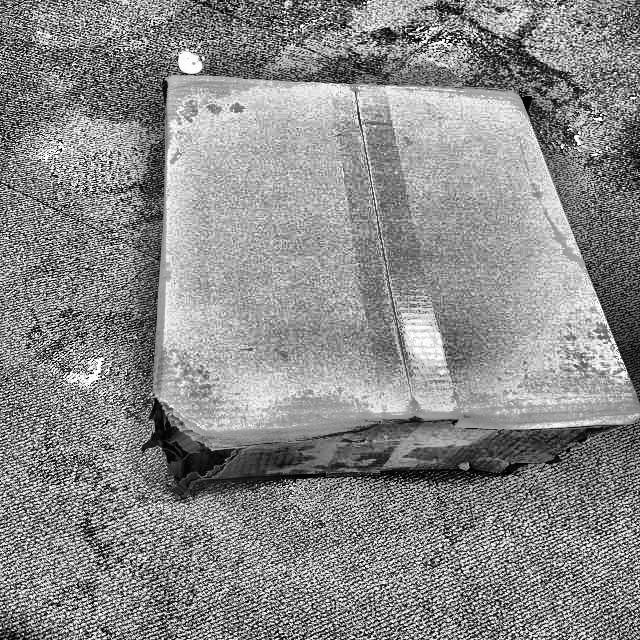box: (144, 70, 639, 511)
hole: (143, 406, 241, 500)
wet: (458, 425, 622, 475)
